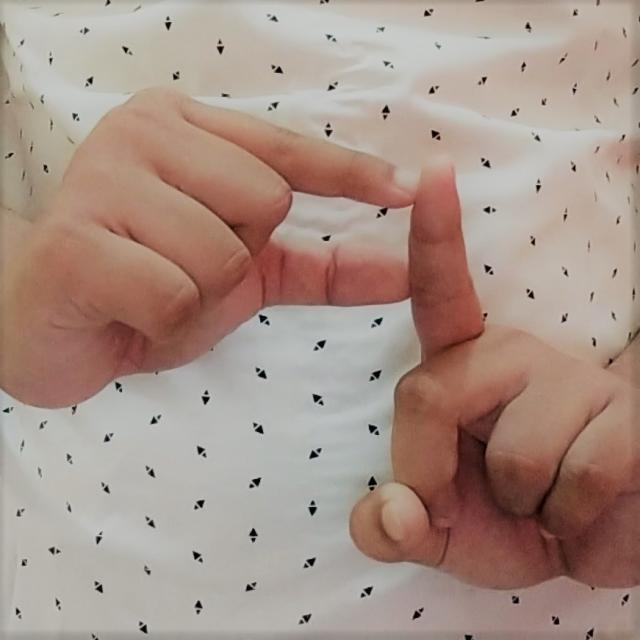P: (28, 52, 569, 600)
